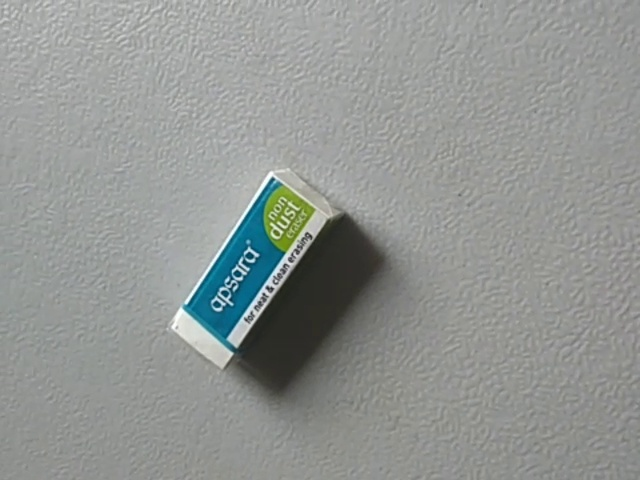Eraser: (164, 162, 350, 379)
